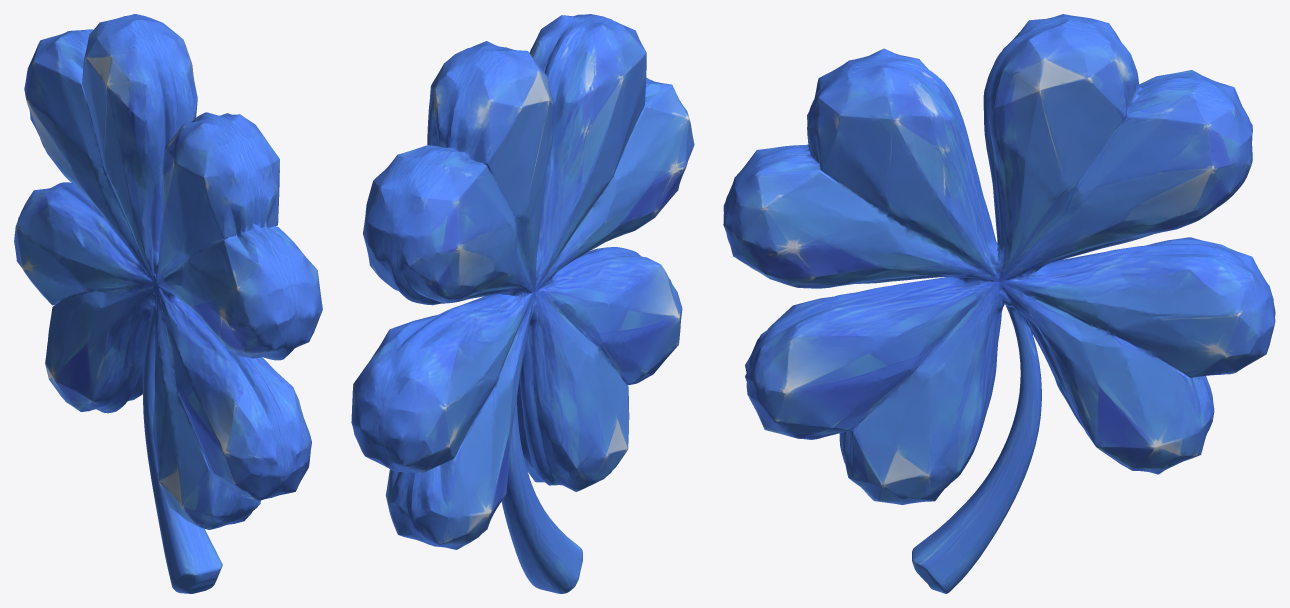
Rendered from clover.glb.
The picture shows the model from 3 angles, left to right: view 1: azimuth 30°, elevation 25°; view 2: azimuth 150°, elevation 25°; view 3: azimuth 270°, elevation 25°; orthographic projection. The views are drawn at different scales.
Parts seen in each view (by area): view 1: tripo_node_a6fbb230-7e22-4ab4-ada3-fbcd33f2cb96; view 2: tripo_node_a6fbb230-7e22-4ab4-ada3-fbcd33f2cb96; view 3: tripo_node_a6fbb230-7e22-4ab4-ada3-fbcd33f2cb96.
Part boxes in pixels (x1=…): tripo_node_a6fbb230-7e22-4ab4-ada3-fbcd33f2cb96: x1=14, y1=14, x2=322, y2=593; tripo_node_a6fbb230-7e22-4ab4-ada3-fbcd33f2cb96: x1=351, y1=14, x2=694, y2=593; tripo_node_a6fbb230-7e22-4ab4-ada3-fbcd33f2cb96: x1=723, y1=14, x2=1275, y2=593.
Size of the model in its own units: 0.1662 by 0.9796 by 0.8622.
1 material, 1 textured.
